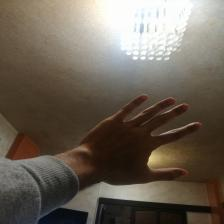five: (75, 92, 202, 189)
